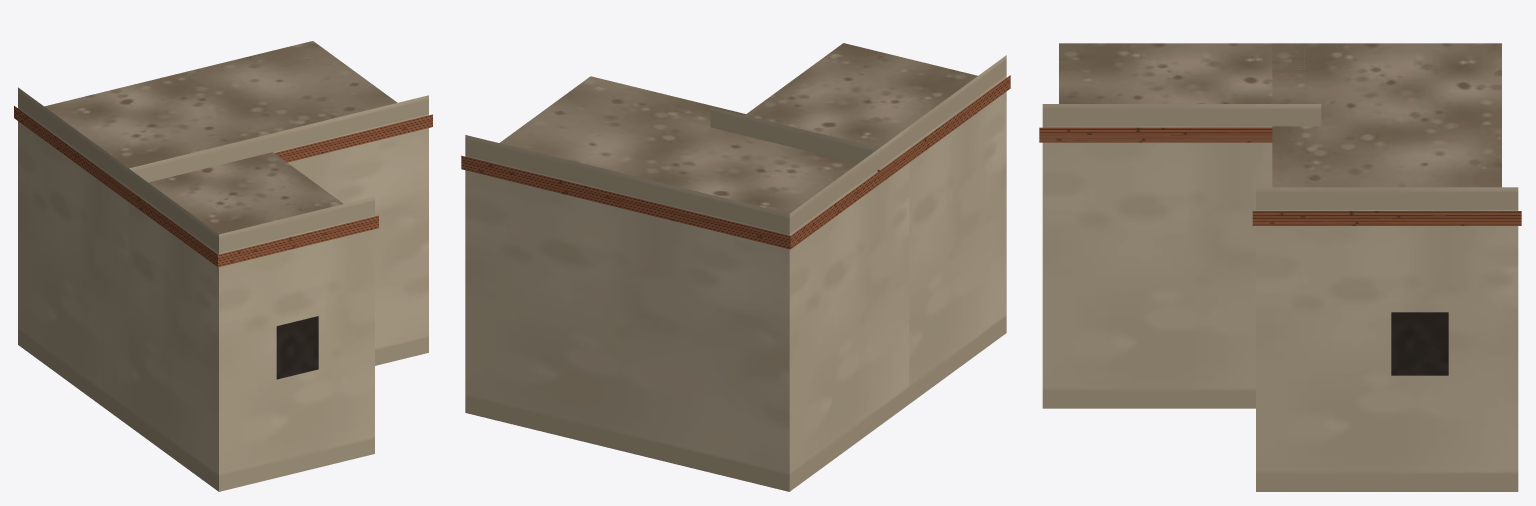
Rendered from ae_sand_stone_medium_court_lod2.glb.
3 views of the same model, side by side, from view 1: azimuth 30°, elevation 25°; view 2: azimuth 150°, elevation 25°; view 3: azimuth 270°, elevation 25° (orthographic). The views are drawn at different scales.
Parts seen in each view (by area): view 1: ae_sand_stone_medium_court_lod2; view 2: ae_sand_stone_medium_court_lod2; view 3: ae_sand_stone_medium_court_lod2.
Part boxes in pixels (x1,y1,x2,y2): ae_sand_stone_medium_court_lod2: (14, 41, 432, 491); ae_sand_stone_medium_court_lod2: (461, 43, 1010, 491); ae_sand_stone_medium_court_lod2: (1039, 43, 1521, 491).
Bounding box in the file's own units: 5.08 × 4.1 × 5.88.
1 material, 1 textured.
